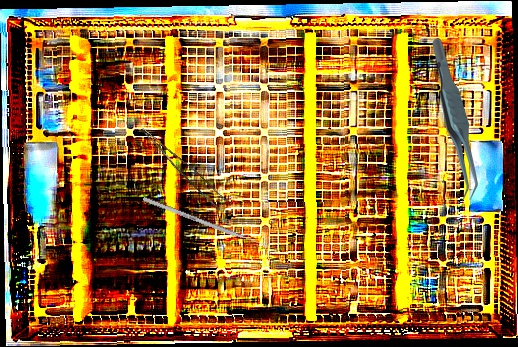Pusher: (142, 196, 269, 249)
Tissue Forceps: (132, 127, 230, 211), (432, 38, 478, 201)
